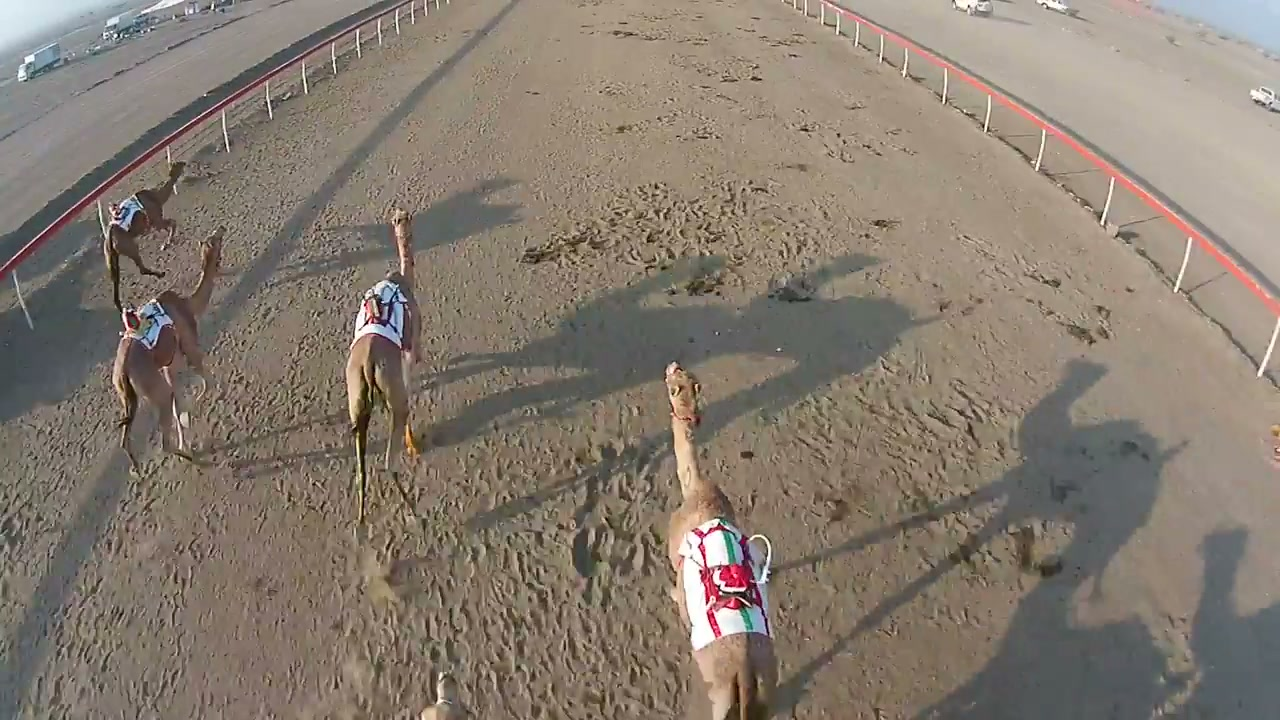animal_footprint: (442, 464, 655, 719), (26, 448, 180, 717), (331, 418, 437, 704)
